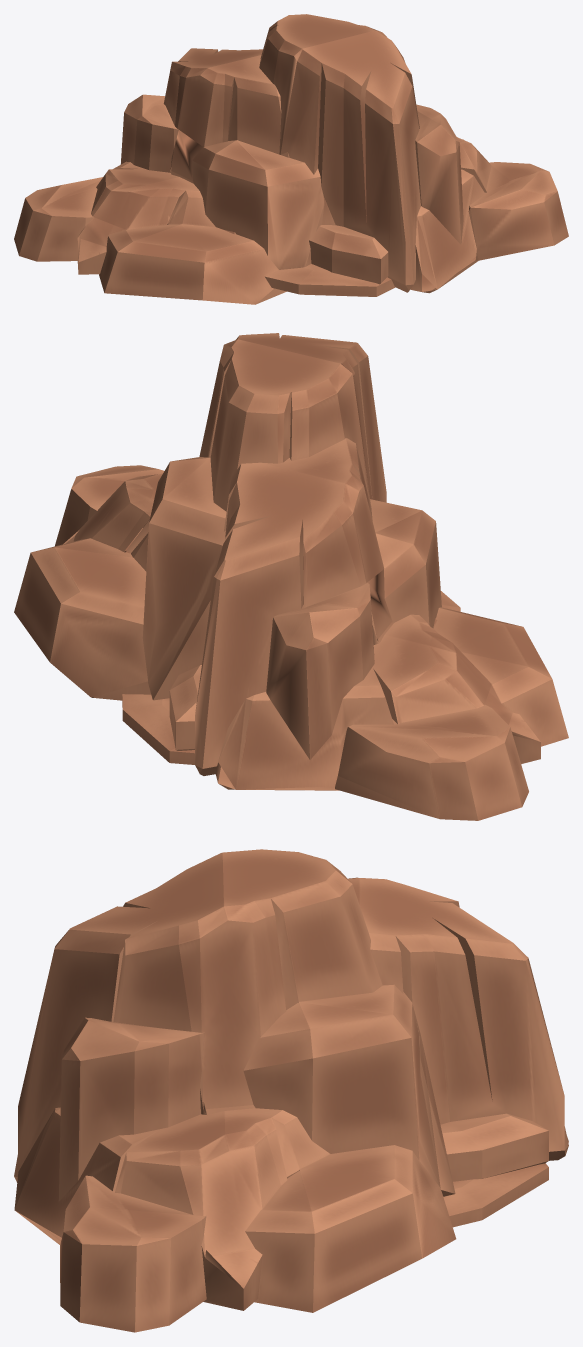
File: midle_rock_03.glb
3 renders of one model, top to bottom at view 1: azimuth 30°, elevation 25°; view 2: azimuth 150°, elevation 25°; view 3: azimuth 270°, elevation 25°, orthographic. The views are drawn at different scales.
Visible parts, largest first — view 1: Cube.008_Midle_rock_2_0; view 2: Cube.008_Midle_rock_2_0; view 3: Cube.008_Midle_rock_2_0.
Part boxes in pixels (bbox=[...]): Cube.008_Midle_rock_2_0: bbox=[14, 14, 568, 304]; Cube.008_Midle_rock_2_0: bbox=[14, 333, 568, 820]; Cube.008_Midle_rock_2_0: bbox=[14, 849, 568, 1332].
Bounding box in the file's own units: 10.3 × 4.84 × 7.52.
1 material, 1 textured.
